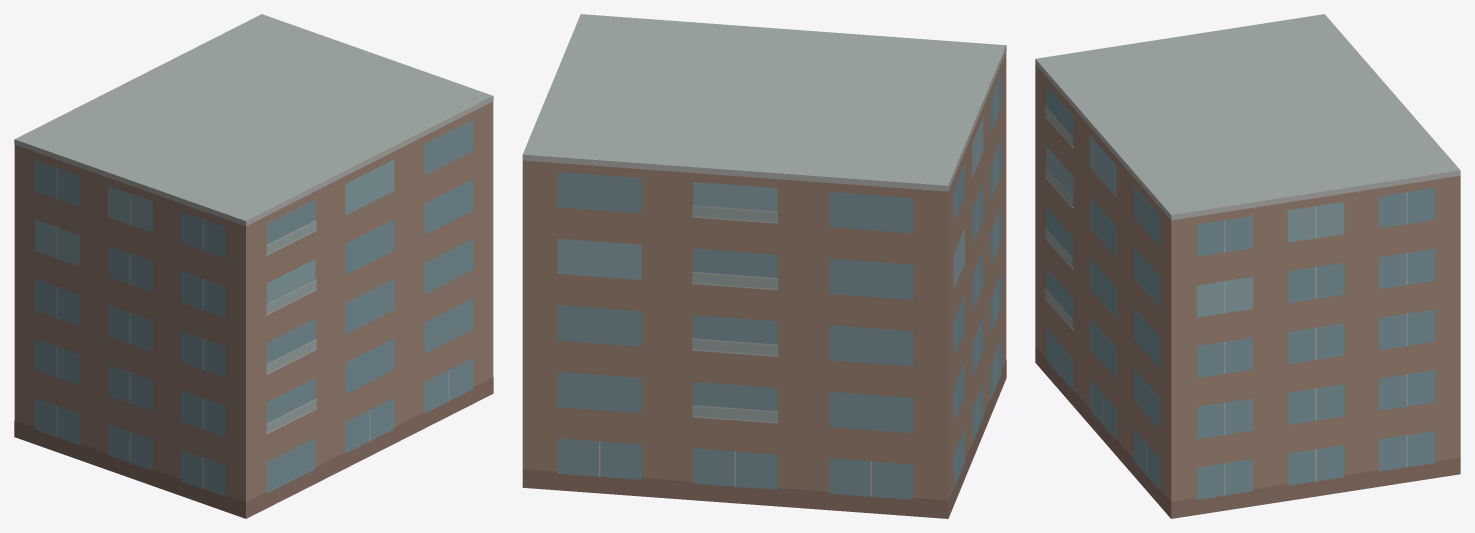
Rendered from survey-upis-32843145.glb.
3 views of the same model, side by side, from view 1: azimuth 30°, elevation 25°; view 2: azimuth 150°, elevation 25°; view 3: azimuth 270°, elevation 25° (orthographic). The views are drawn at different scales.
Parts seen in each view (by area): view 1: survey-upis-32843145.tmp; view 2: survey-upis-32843145.tmp; view 3: survey-upis-32843145.tmp.
Boxes of the visible parts, x1,y1,x2,y2 form: survey-upis-32843145.tmp: (14,14,493,518); survey-upis-32843145.tmp: (522,14,1006,518); survey-upis-32843145.tmp: (1035,14,1460,518).
Size of the model in its own units: 19.74 by 13.9 by 17.64.
